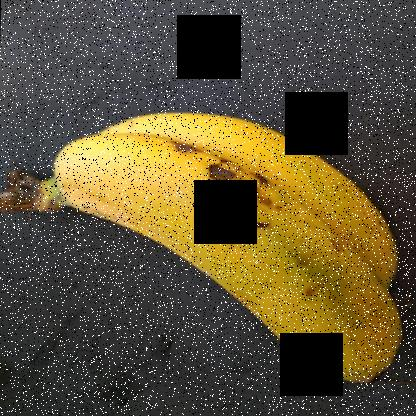ripe: (28, 139, 399, 391)
